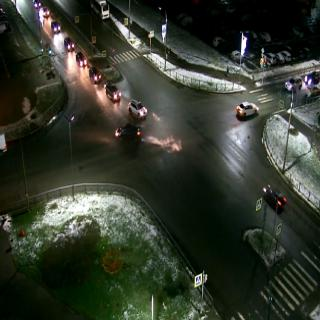large-vehicle: (91, 0, 109, 17)
small-vehicle: (263, 184, 286, 212), (115, 123, 141, 137), (128, 100, 146, 118), (104, 83, 121, 102), (237, 102, 258, 116), (286, 75, 302, 91), (304, 71, 319, 85), (89, 67, 100, 84), (75, 52, 86, 65), (65, 37, 74, 49), (51, 21, 60, 32), (40, 7, 50, 16), (33, 0, 40, 7), (129, 132, 133, 139)
